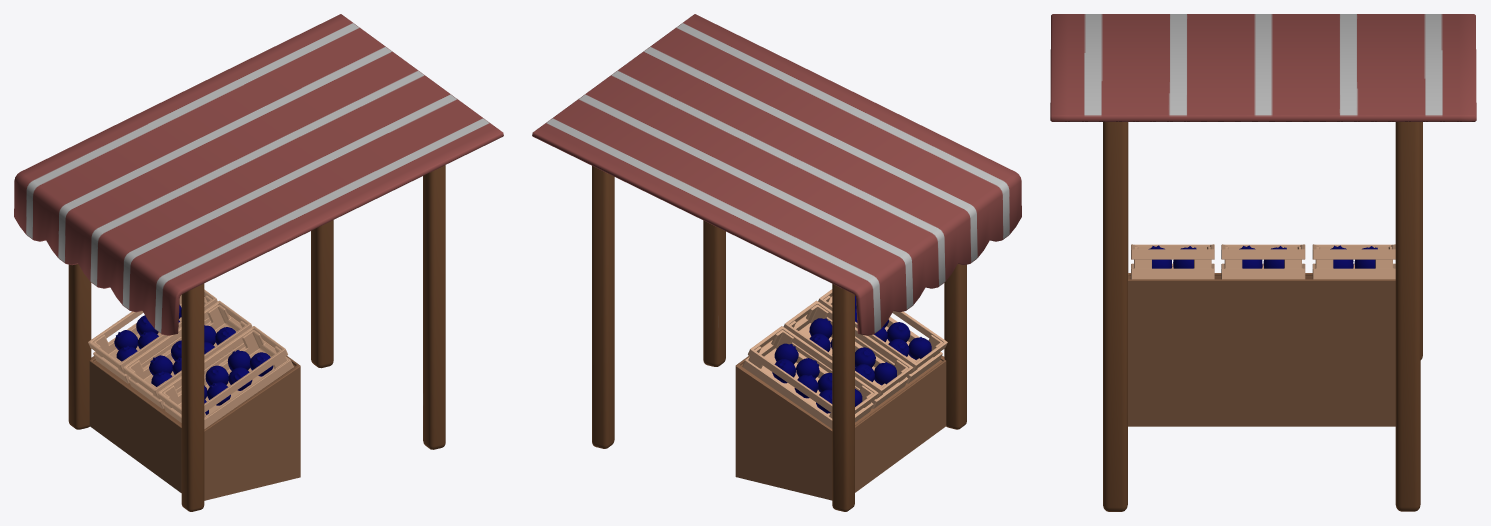
The model's file is satici.fbx.
3 views of the same model, side by side, from view 1: azimuth 30°, elevation 25°; view 2: azimuth 150°, elevation 25°; view 3: azimuth 270°, elevation 25° (orthographic). The views are drawn at different scales.
Parts seen in each view (by area): view 1: Cube.004, Cube.006, Cube.003, Cube, Cube.002, Cube.008, Cube.001, Cube.028, Cube.020; view 2: Cube.004, Cube.006, Cube.001, Cube.008, Cube.020, Cube, Cube.003, Cube.028, Cube.002; view 3: Cube.004, Cube.006, Cube.001, Cube.003, Cube.028, Cube.020, Cube.002, Cube.008.
Boxes of the visible parts, <box> form: Cube.004: <box>14,14,503,335</box>; Cube.006: <box>89,296,300,500</box>; Cube.003: <box>423,165,445,449</box>; Cube: <box>181,283,204,511</box>; Cube.002: <box>157,326,293,428</box>; Cube.008: <box>68,264,91,429</box>; Cube.001: <box>311,220,333,368</box>; Cube.028: <box>123,300,252,408</box>; Cube.020: <box>88,289,217,383</box>; Cube.004: <box>532,14,1021,335</box>; Cube.006: <box>735,296,946,500</box>; Cube.001: <box>592,166,614,448</box>; Cube.008: <box>832,284,854,511</box>; Cube.020: <box>742,326,878,428</box>; Cube: <box>944,264,966,429</box>; Cube.003: <box>703,220,725,366</box>; Cube.028: <box>783,300,913,408</box>; Cube.002: <box>818,289,947,383</box>; Cube.004: <box>1050,14,1476,121</box>; Cube.006: <box>1128,273,1395,426</box>; Cube.001: <box>1395,122,1420,511</box>; Cube.003: <box>1103,122,1127,511</box>; Cube.028: <box>1221,244,1305,279</box>; Cube.020: <box>1312,244,1395,279</box>; Cube.002: <box>1131,244,1214,279</box>; Cube.008: <box>1420,122,1422,359</box>.
Bounding box in the file's own units: 3992 × 3765 × 3413.
1 material, 1 textured.
